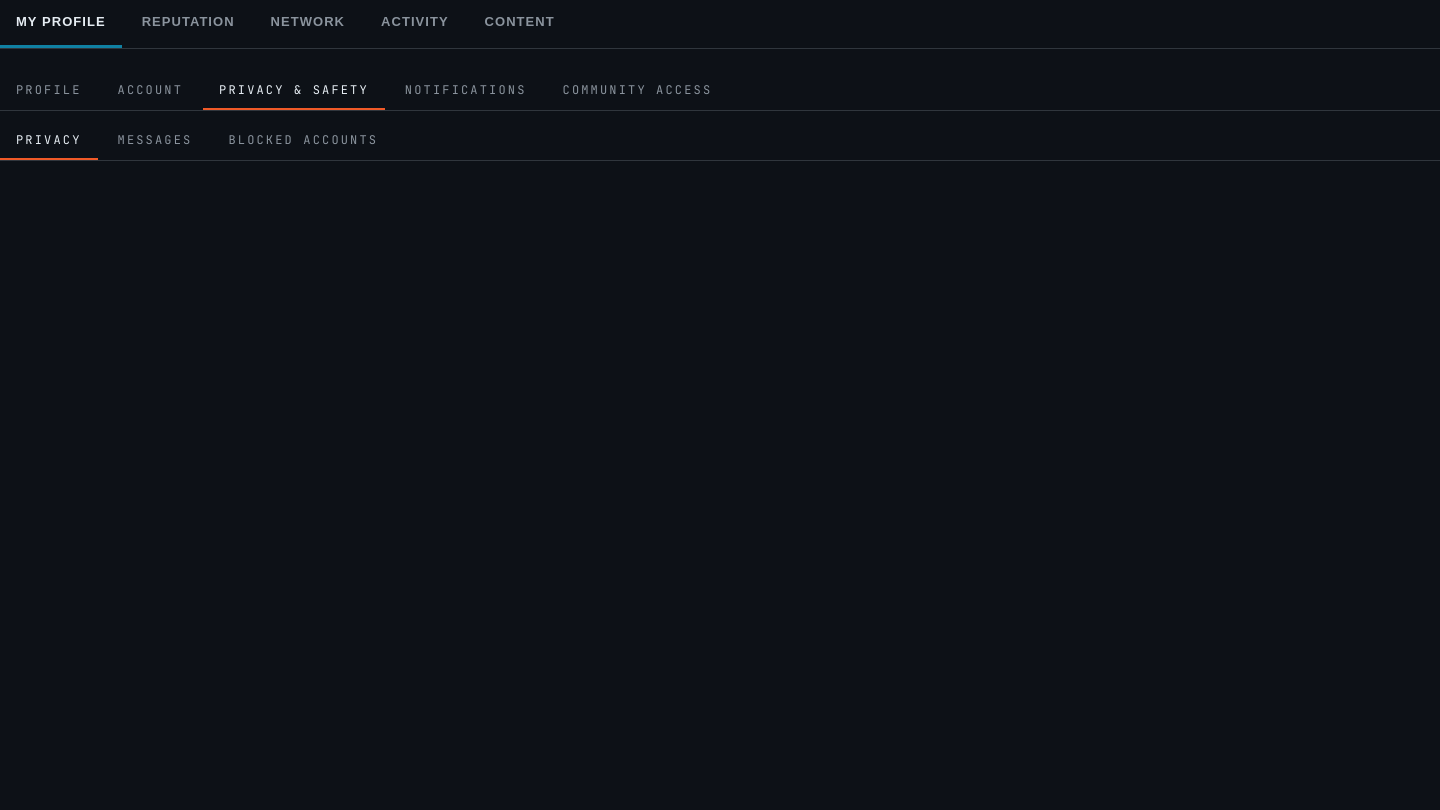
it: resolving the dialog › Cancel keeps the leaf, the form and the URL
Click the tab "ACCOUNT" at (150, 91), box [102,73,199,110]
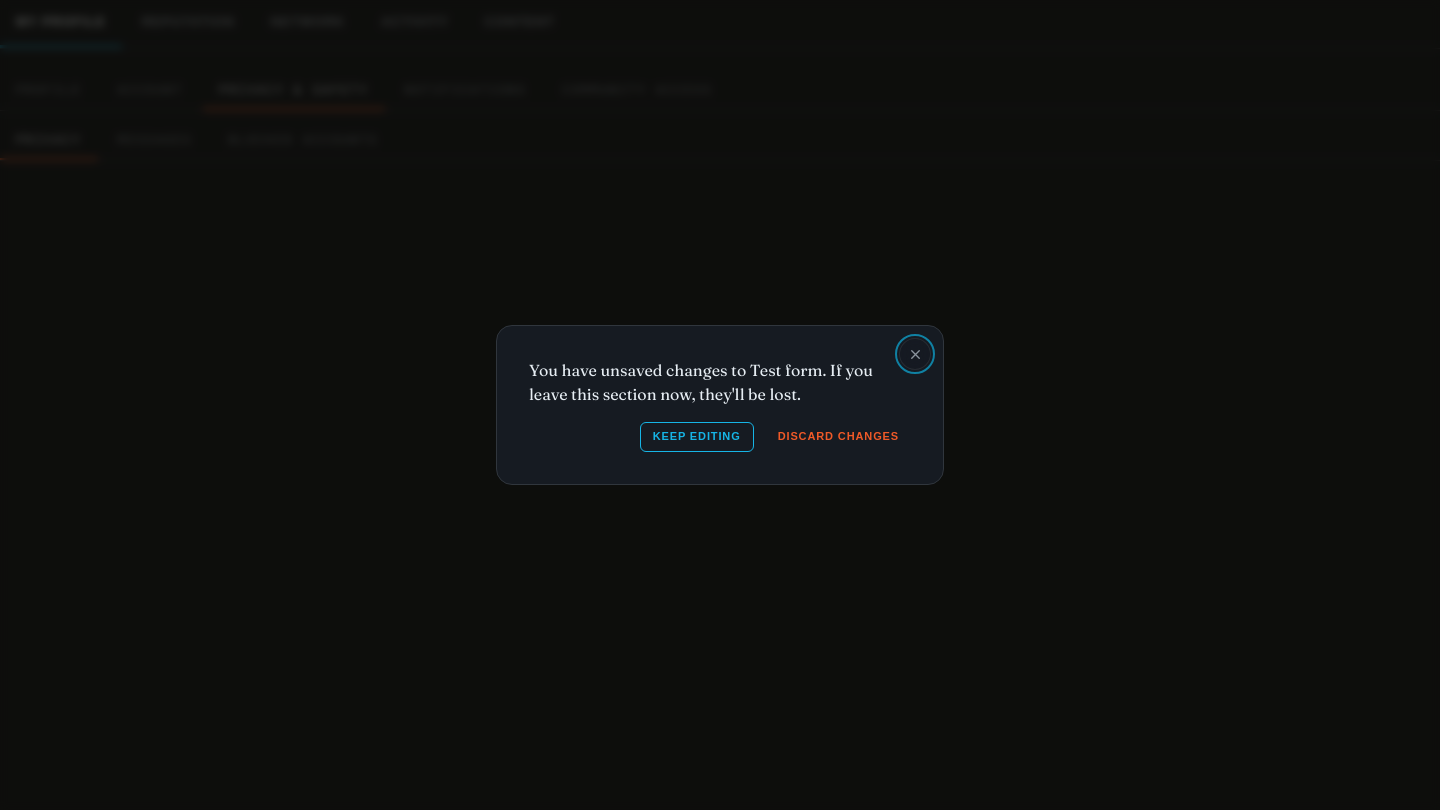
Click the button "Keep editing" at (697, 437), box [640,422,754,452]
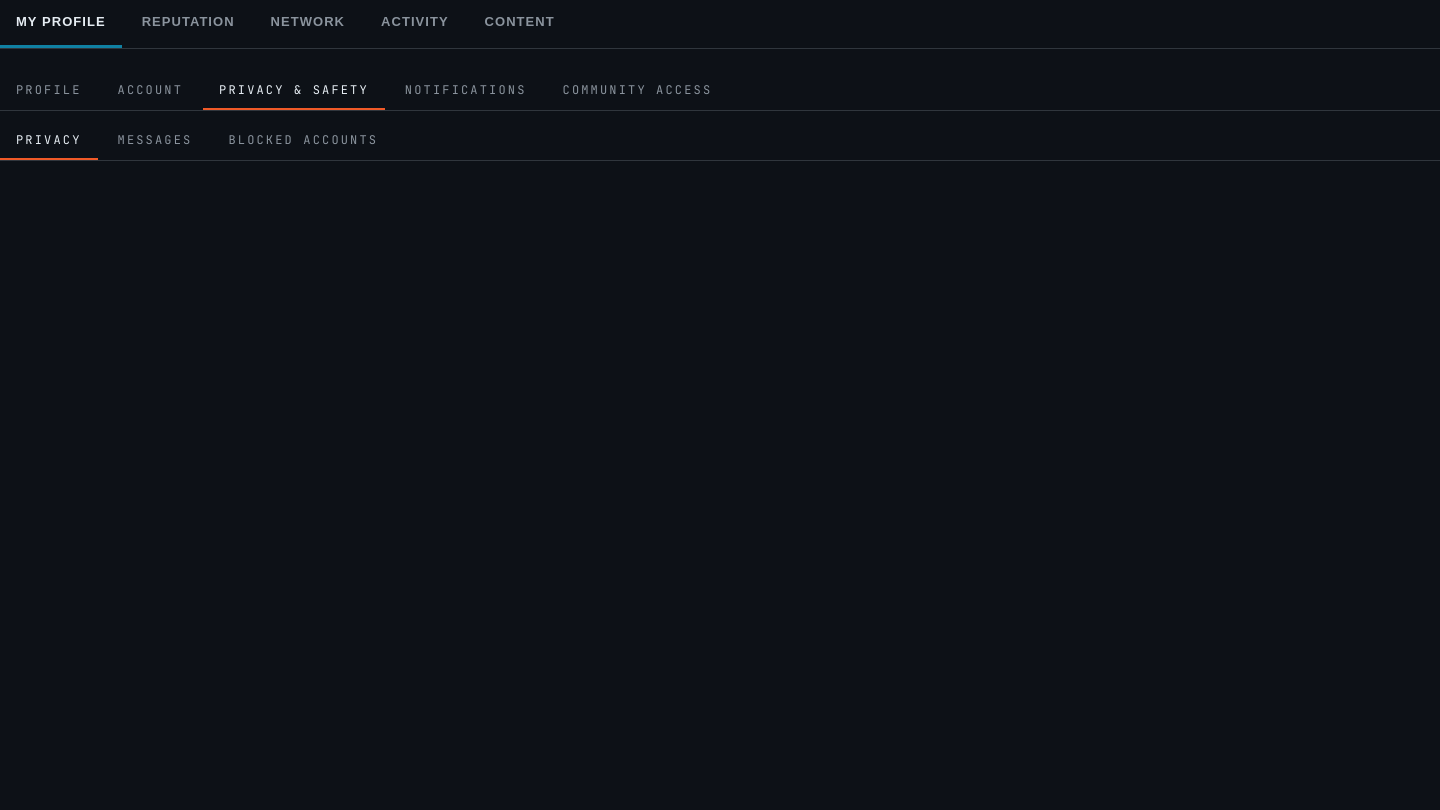
Now the dialog is gone
